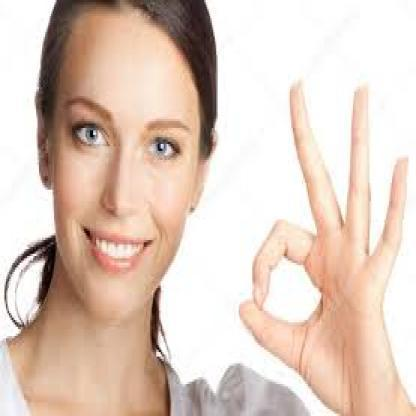ok: (235, 72, 410, 408)
